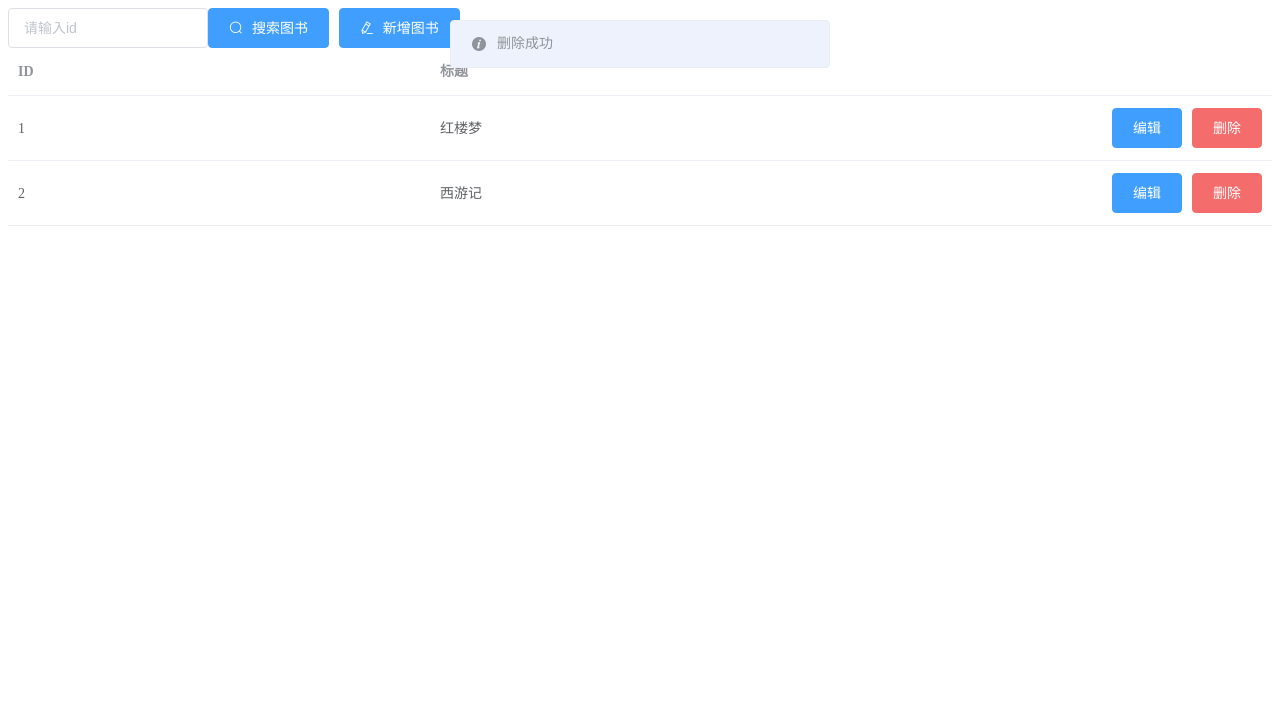
it: 测试BookList.vue页面 › 测试新增功能
Click the button with class "add-btn" at {"x": 399, "y": 28}, box [339,8,460,48]
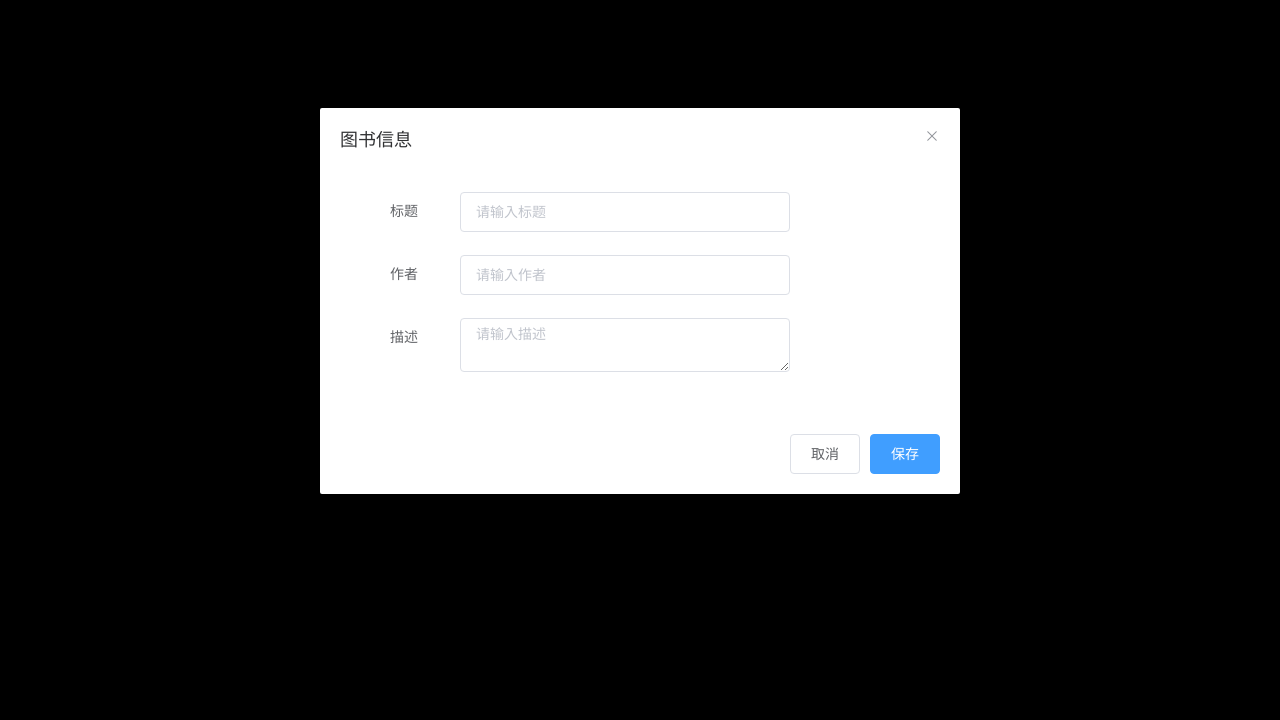
Type "天龙八部" into the field with placeholder "请输入标题" at {"x": 625, "y": 212}, box [460,192,790,232]
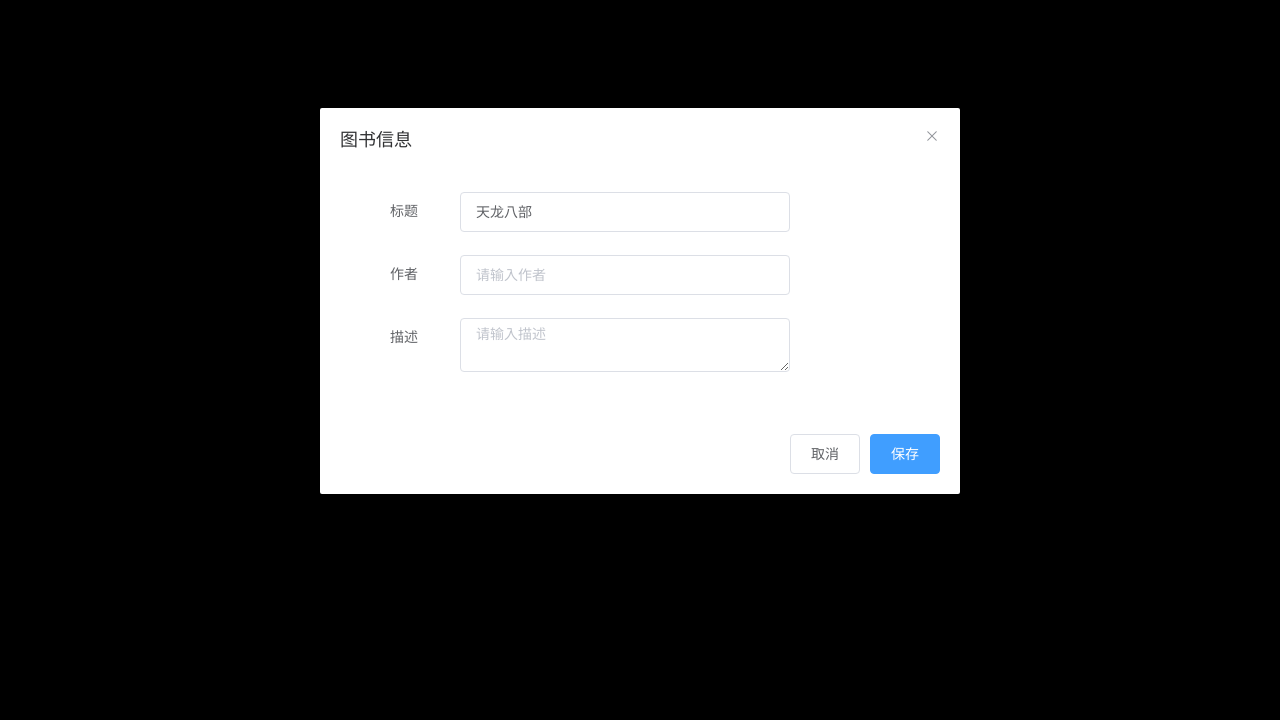
Type "金庸" into the field with placeholder "请输入作者" at {"x": 625, "y": 275}, box [460,255,790,295]
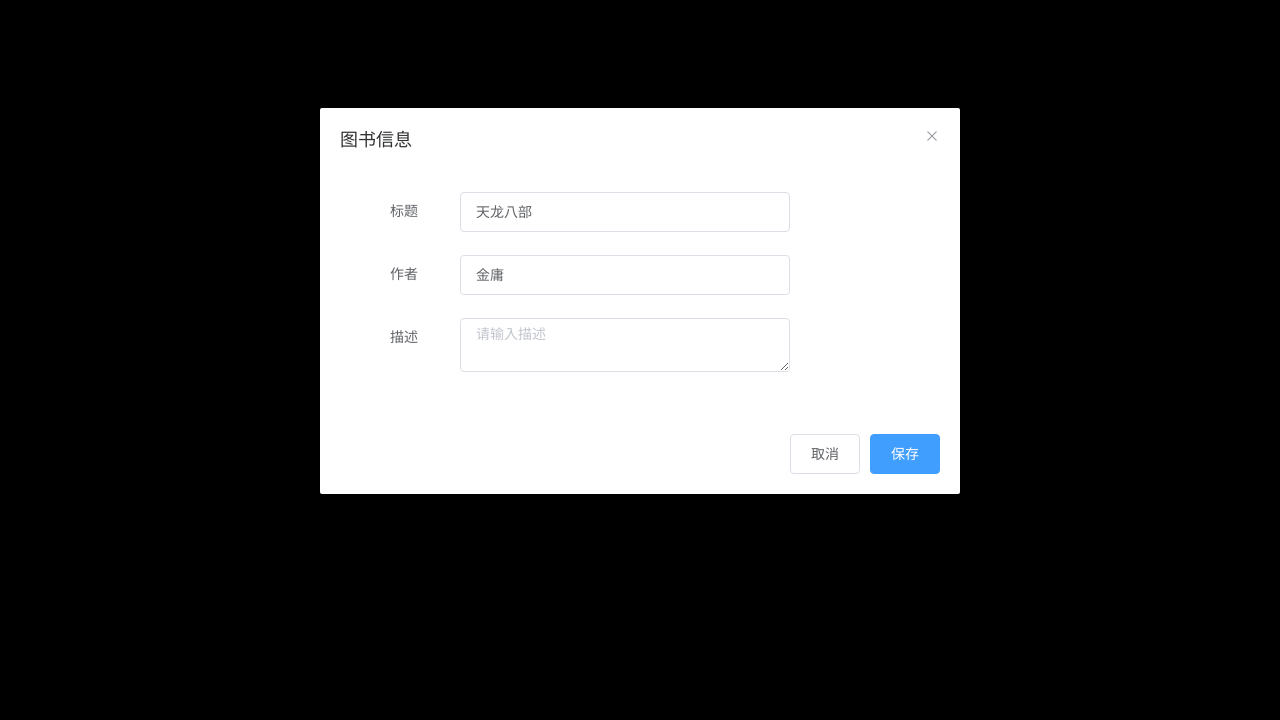
Type "是中国现代作家金庸创作的长篇武侠小说。这部小说从1963年9月开始创作并连载于《明报》" into the text box with placeholder "请输入描述" at {"x": 625, "y": 345}, box [460,318,790,372]
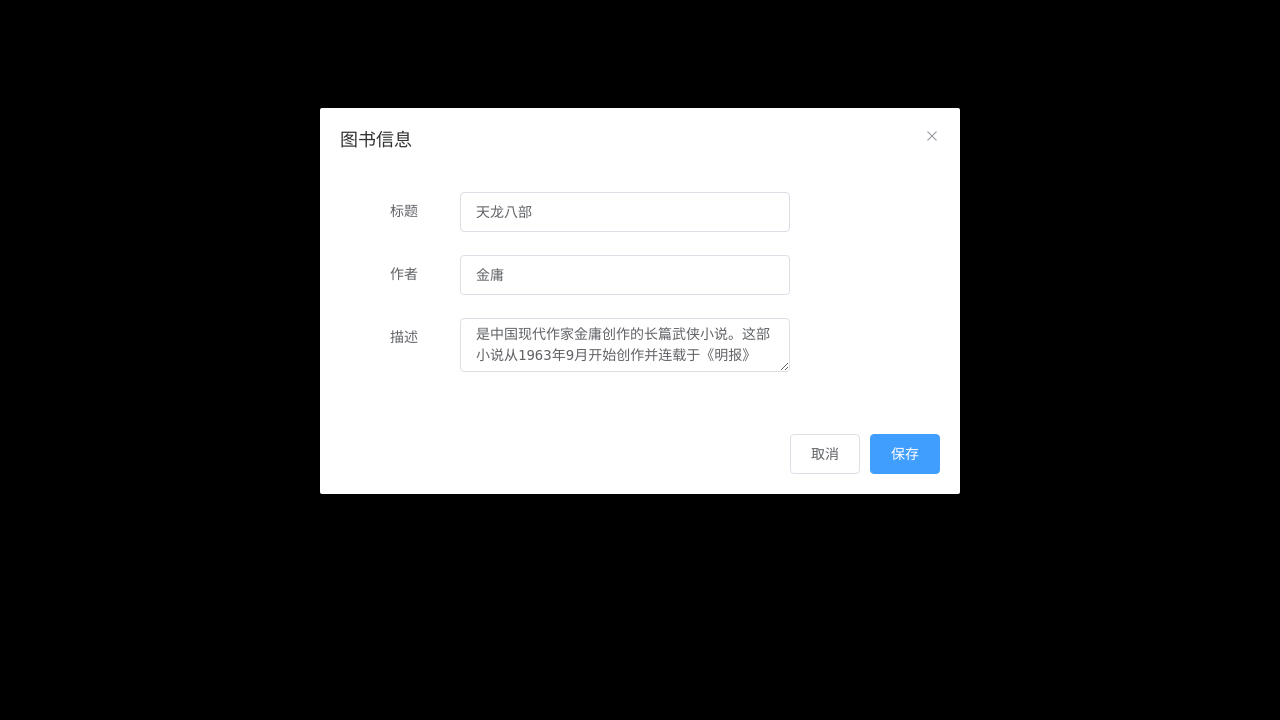
Click the button with class "save-btn" at {"x": 905, "y": 454}, box [870,434,940,474]
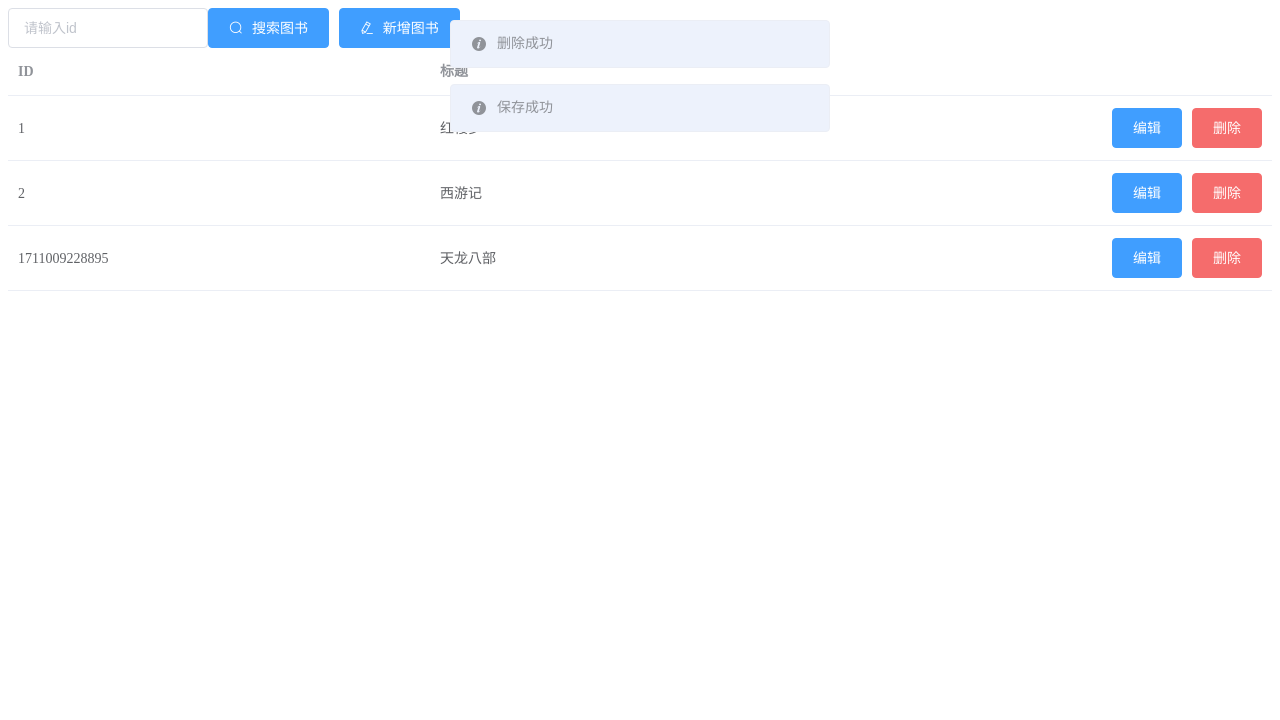
Check: the row "1711009228895 天龙八部 编辑 删除" is shown, box [8,226,1272,291]
